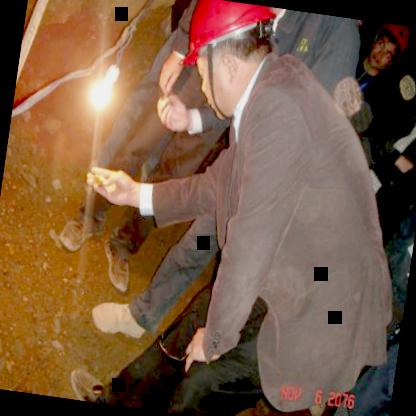helmet: (162, 0, 284, 122), (360, 22, 416, 82)
